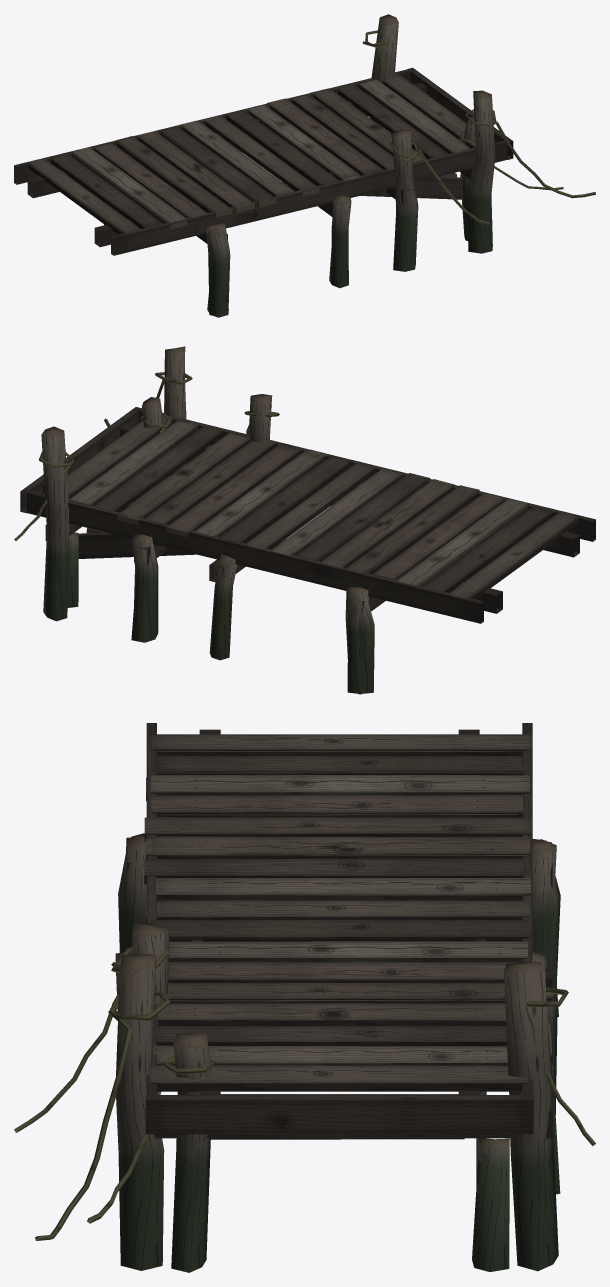
The model's file is dock_cuyabeno_hp_LOD1.glb.
3 views of the same model, one above another, from view 1: azimuth 30°, elevation 25°; view 2: azimuth 150°, elevation 25°; view 3: azimuth 270°, elevation 25° (orthographic). The views are drawn at different scales.
Visible parts, largest first — view 1: Dock_End_LOD1, Dock_Straight_LOD1, Dock_Step_LOD1; view 2: Dock_End_LOD1, Dock_Straight_LOD1, Dock_Step_LOD1; view 3: Dock_End_LOD1, Dock_Straight_LOD1, Dock_Step_LOD1.
Part boxes in pixels (x1,y1,x2,y2): Dock_End_LOD1: [14, 14, 595, 315]; Dock_Straight_LOD1: [28, 72, 489, 317]; Dock_Step_LOD1: [14, 110, 563, 315]; Dock_End_LOD1: [14, 346, 595, 693]; Dock_Straight_LOD1: [42, 394, 578, 694]; Dock_Step_LOD1: [67, 397, 595, 692]; Dock_End_LOD1: [35, 723, 595, 1271]; Dock_Straight_LOD1: [14, 734, 560, 1194]; Dock_Step_LOD1: [87, 723, 557, 1272].
Size of the model in its own units: 4.87 by 1.59 by 2.79.
Materials: 1 (1 with a texture image).
